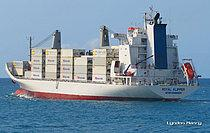Ship: (4, 4, 205, 104)
